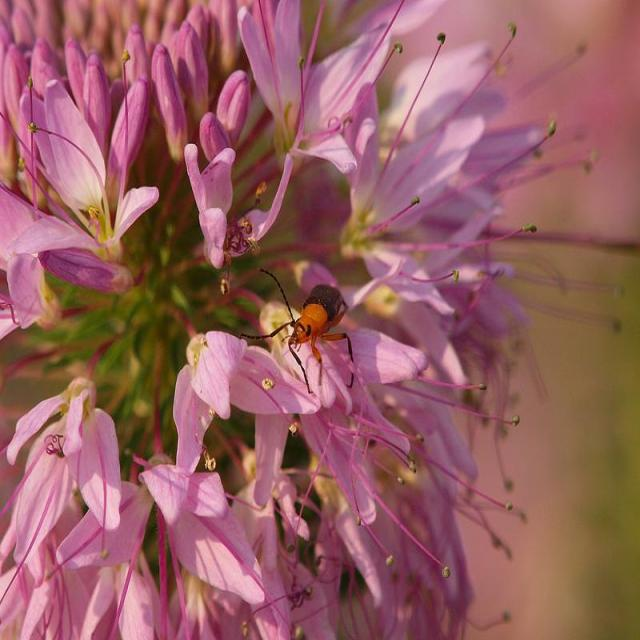BlisterBeetle-Adult-: (247, 262, 366, 410)
